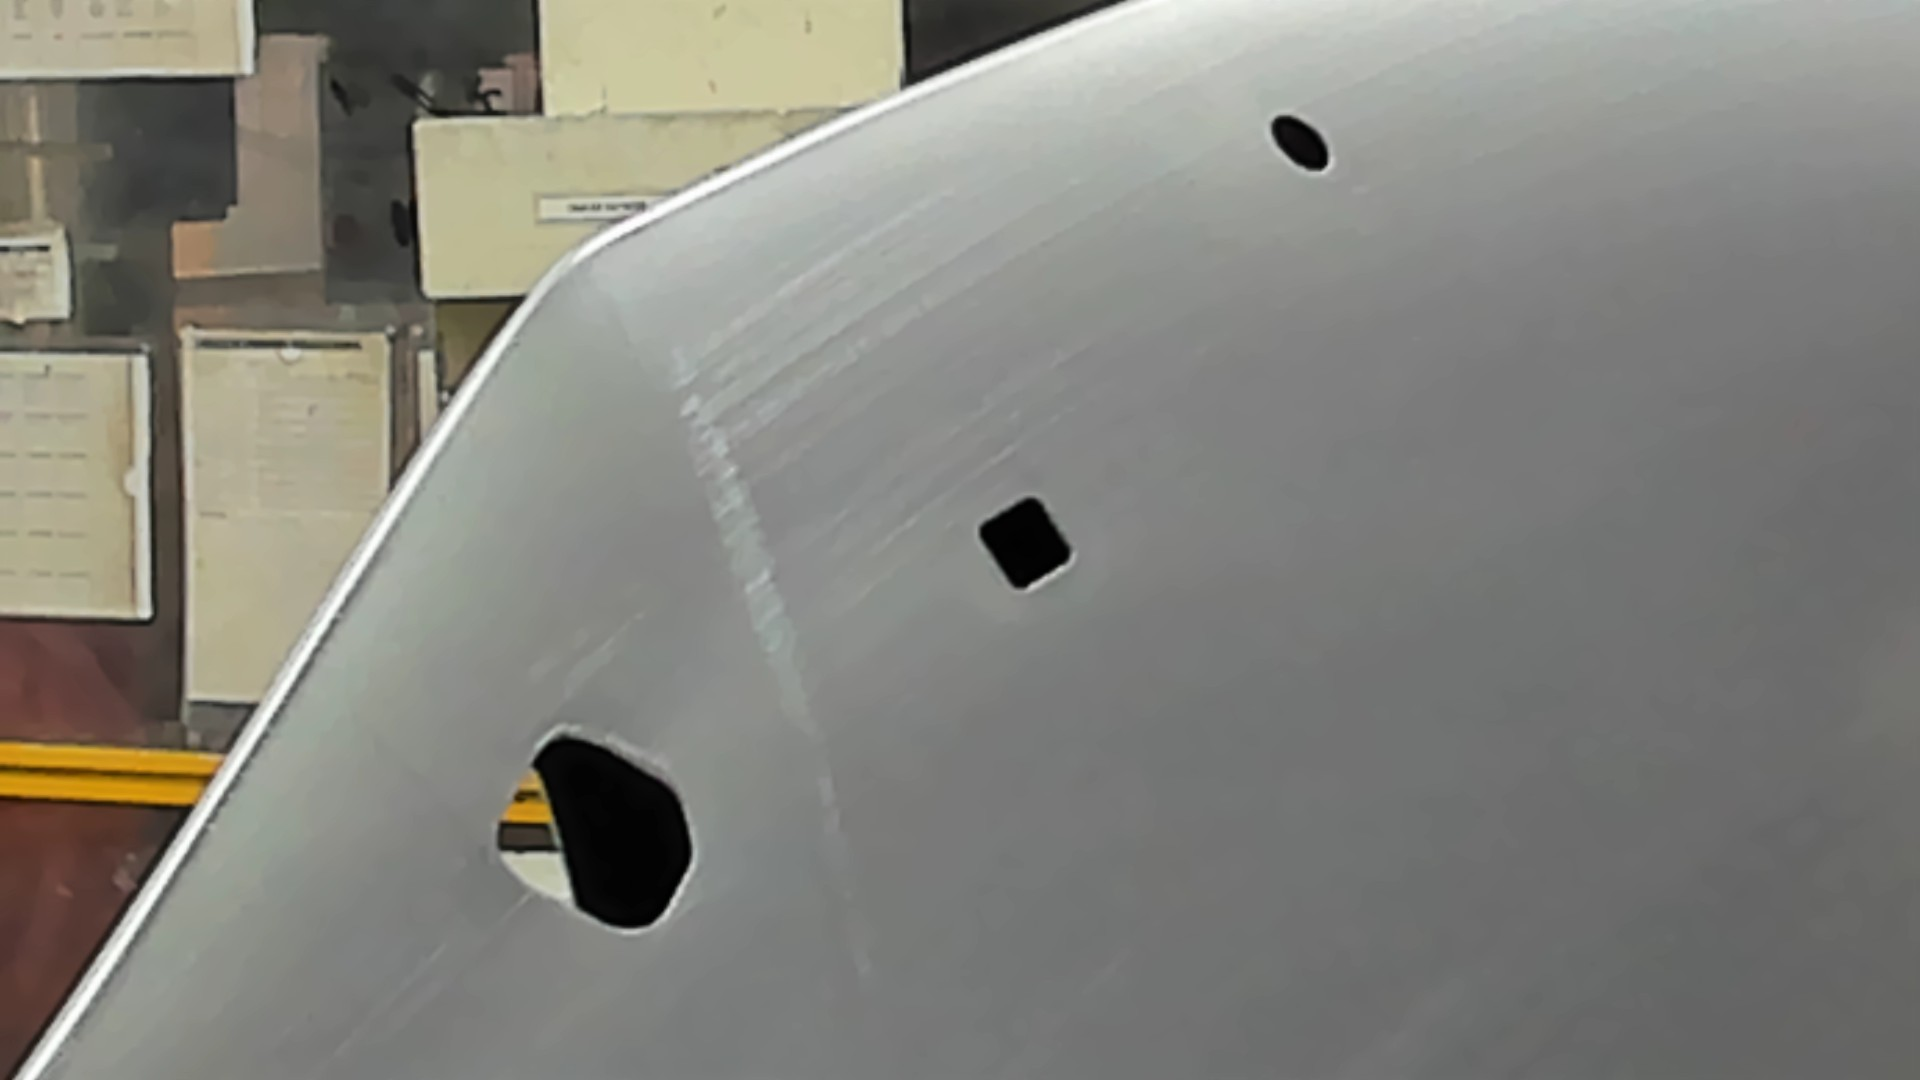chico: (1265, 109, 1335, 175)
grande: (488, 723, 704, 938)
mediano: (975, 492, 1079, 596)
